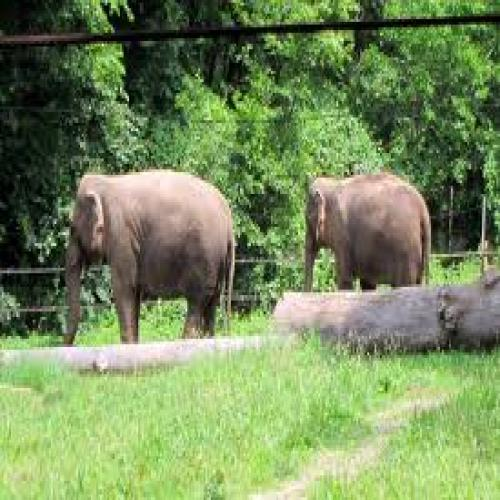asian_elephant-endangered: (64, 168, 236, 342), (304, 169, 432, 288)
